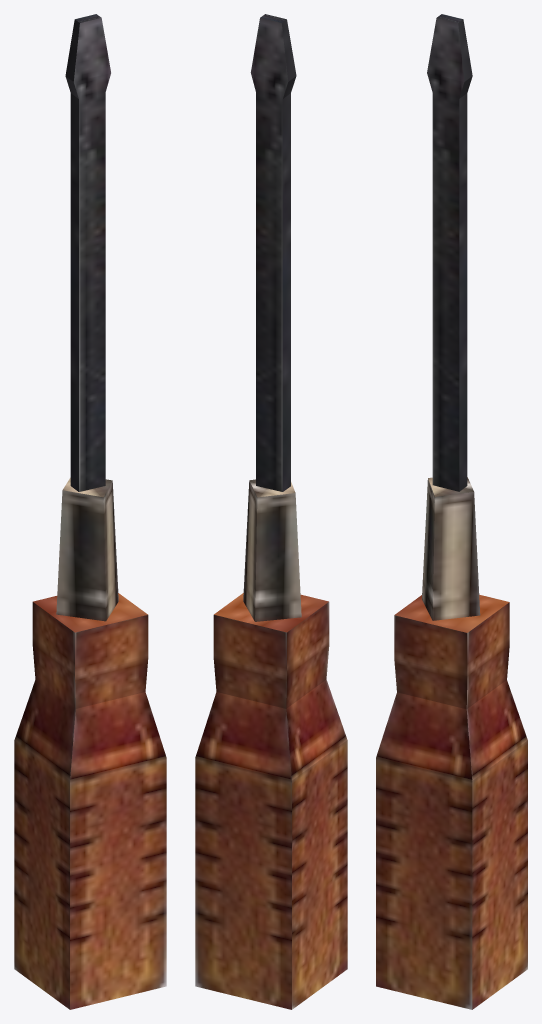
Rendered from tool_screwdriver_2.fbx.
3 renders of one model, left to right at view 1: azimuth 30°, elevation 25°; view 2: azimuth 150°, elevation 25°; view 3: azimuth 330°, elevation 25°, orthographic.
Visible parts, largest first — view 1: ScrewDriver; view 2: ScrewDriver; view 3: ScrewDriver.
Boxes of the visible parts, x1,y1,x2,y2 form: ScrewDriver: (14, 14, 166, 1009); ScrewDriver: (195, 14, 347, 1009); ScrewDriver: (376, 14, 527, 1009).
Bounding box in the file's own units: 25.73 × 245 × 25.73.
Materials: 1 (1 with a texture image).
